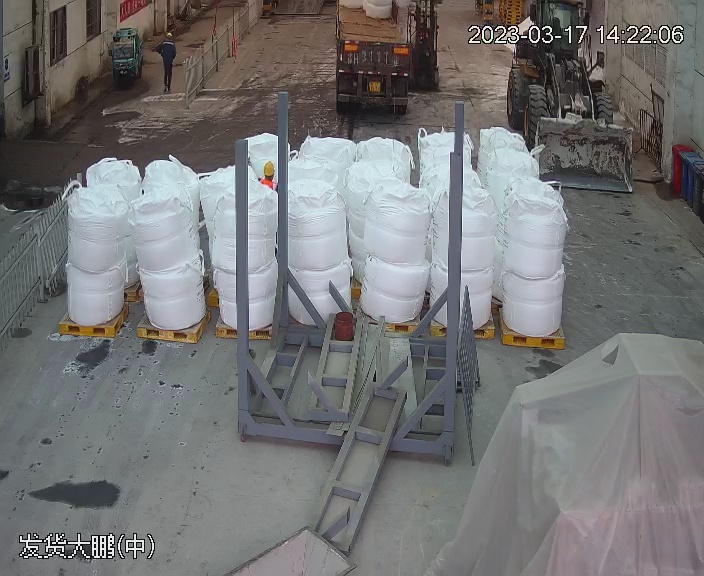head: (158, 32, 177, 50)
helmet: (159, 31, 176, 49), (262, 160, 275, 176), (166, 32, 173, 39)
people: (155, 32, 178, 91)
truck: (331, 0, 431, 111)
